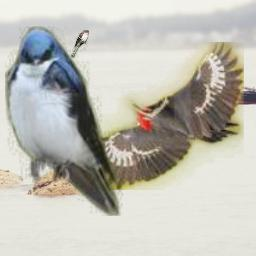Cuckoo: (71, 30, 89, 58)
Swallow: (5, 25, 123, 216)
Woodpecker: (77, 42, 244, 190)
